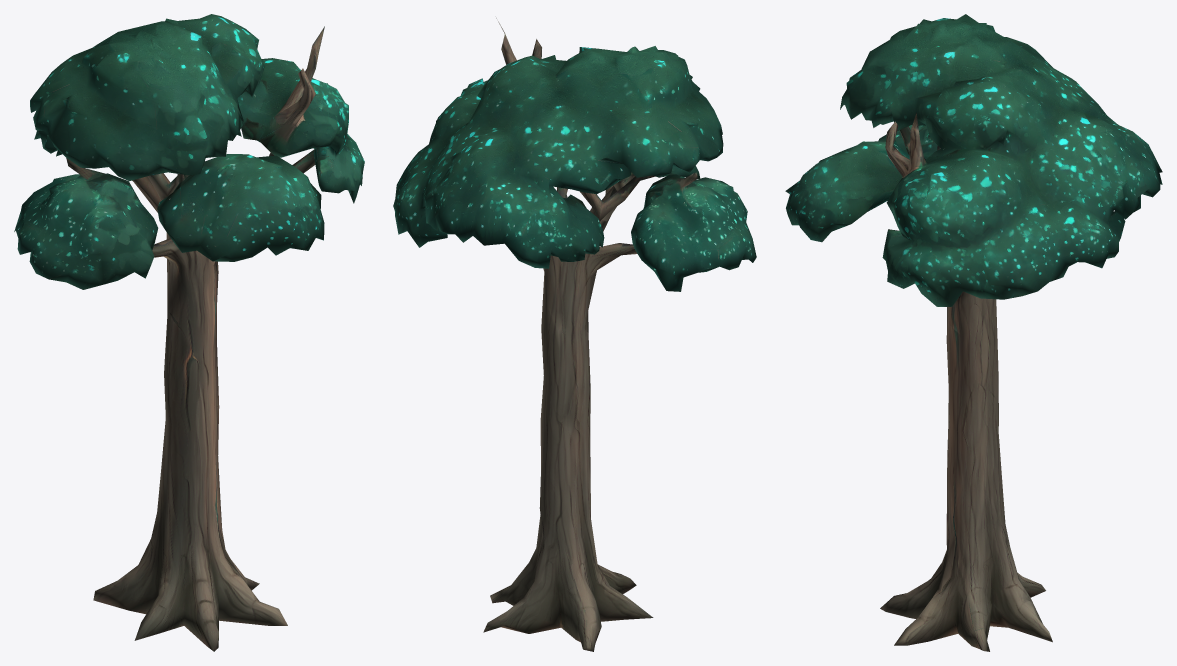
3 renders of one model, left to right at view 1: azimuth 30°, elevation 25°; view 2: azimuth 150°, elevation 25°; view 3: azimuth 270°, elevation 25°, orthographic. The views are drawn at different scales.
Parts seen in each view (by area): view 1: Mesh_0; view 2: Mesh_0; view 3: Mesh_0.
Boxes of the visible parts, <box> form: Mesh_0: <box>14,14,364,651</box>; Mesh_0: <box>393,18,756,651</box>; Mesh_0: <box>785,14,1162,651</box>.
Size of the model in its own units: 1.12 by 1.91 by 1.14.
1 material, 1 textured.
